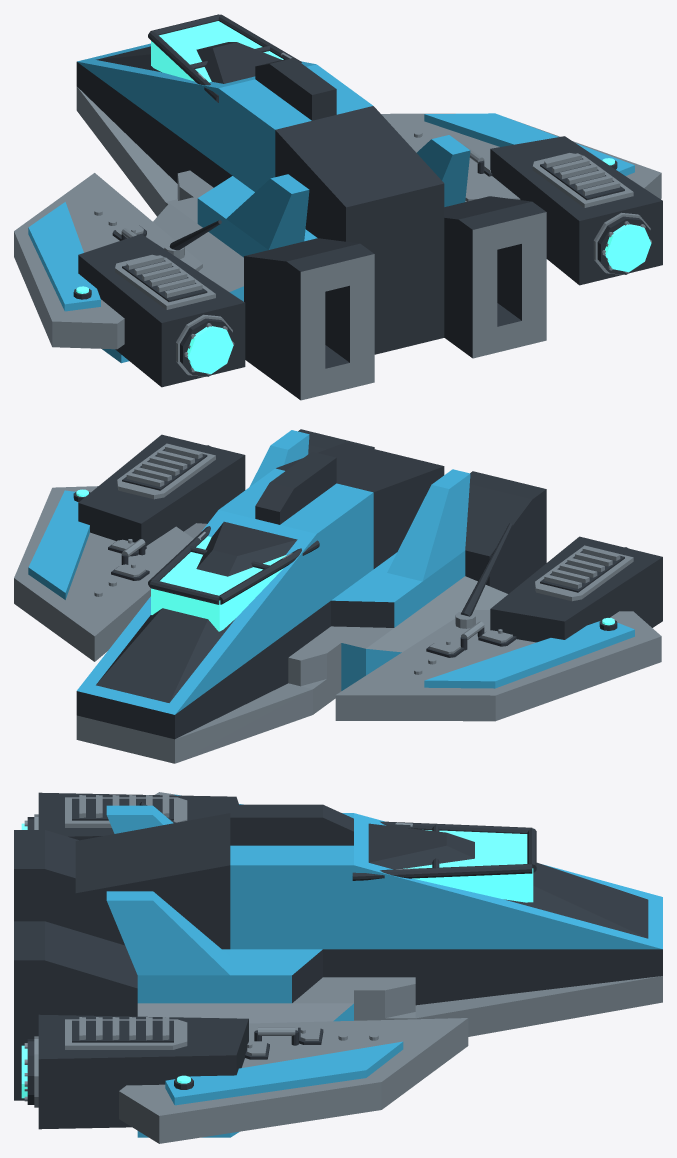
File: wasp.glb
3 views of the same model, one above another, from view 1: azimuth 30°, elevation 25°; view 2: azimuth 150°, elevation 25°; view 3: azimuth 270°, elevation 25° (orthographic). The views are drawn at different scales.
Visible parts, largest first — view 1: Wasp; view 2: Wasp; view 3: Wasp.
Boxes of the visible parts, x1=… form: Wasp: x1=14, y1=14, x2=662, y2=400; Wasp: x1=14, y1=429, x2=662, y2=763; Wasp: x1=14, y1=792, x2=662, y2=1143.
Size of the model in its own units: 1.55 by 0.5 by 1.31.
